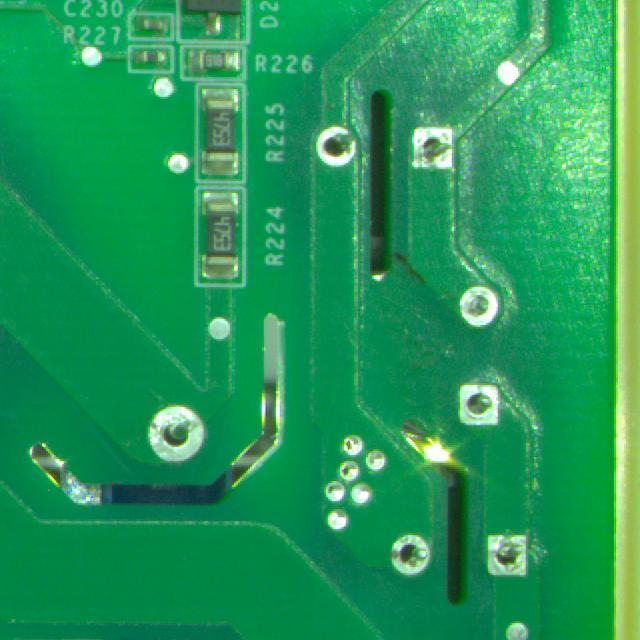Insufficient solder: (142, 403, 213, 465), (473, 527, 533, 587), (397, 118, 459, 176), (452, 374, 504, 431), (308, 122, 363, 171), (385, 527, 432, 584), (448, 282, 503, 329)
